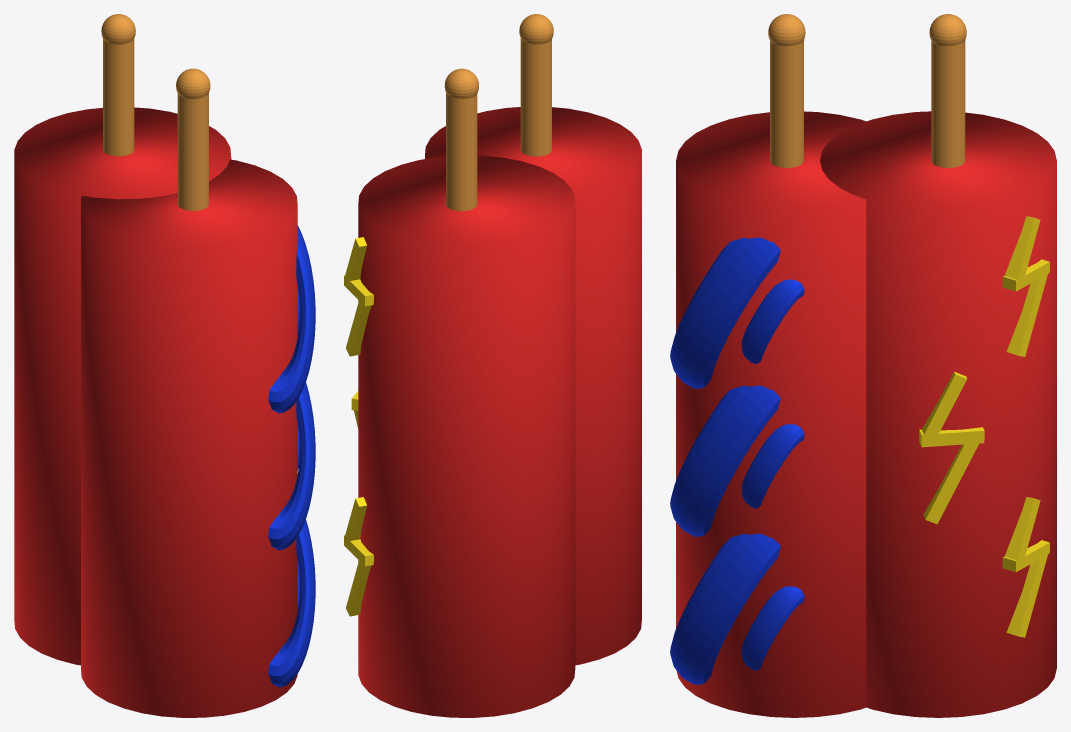
The model's file is battery.fbx.
The picture shows the model from 3 angles, left to right: view 1: azimuth 30°, elevation 25°; view 2: azimuth 150°, elevation 25°; view 3: azimuth 270°, elevation 25°; orthographic projection. The views are drawn at different scales.
Visible parts, largest first — view 1: Cylinder, Cylinder.001, Cylinder.003, Cylinder.002, Torus, Torus.002, Torus.001, Sphere, Sphere.001; view 2: Cylinder.001, Cylinder, Cylinder.002, Cylinder.003, Sphere.001, Sphere, Cube.005, Cube.008, Cube.003, Cube.002; view 3: Cylinder.001, Cylinder, Torus.002, Torus.001, Torus, Cylinder.002, Cylinder.003, Torus.003, Torus.004, Torus.005, Cube.006, Cube.005 (+9 smaller).
Part boxes in pixels (x1,y1,x2,y2): Cylinder: (81, 159, 297, 717); Cylinder.001: (14, 107, 231, 665); Cylinder.003: (177, 93, 208, 210); Cylinder.002: (103, 39, 134, 156); Torus: (268, 225, 315, 413); Torus.002: (268, 519, 315, 687); Torus.001: (268, 382, 315, 550); Sphere: (101, 14, 135, 44); Sphere.001: (176, 68, 210, 98); Cylinder.001: (358, 155, 575, 717); Cylinder: (425, 107, 641, 665); Cylinder.002: (446, 93, 477, 211); Cylinder.003: (520, 38, 551, 156); Sphere.001: (519, 14, 553, 44); Sphere: (444, 68, 478, 98); Cube.005: (346, 553, 371, 616); Cube.008: (346, 301, 371, 356); Cube.003: (345, 497, 366, 540); Cube.002: (345, 237, 366, 280); Cylinder.001: (820, 111, 1056, 717); Cylinder: (676, 111, 866, 717); Torus.002: (670, 533, 780, 684); Torus.001: (670, 385, 780, 536); Torus: (670, 237, 780, 388); Cylinder.002: (931, 40, 965, 167); Cylinder.003: (770, 41, 803, 167); Torus.003: (741, 279, 804, 363); Torus.004: (741, 424, 804, 508); Torus.005: (741, 586, 804, 670); Cube.006: (923, 438, 979, 524); Cube.005: (1006, 547, 1049, 637).
Size of the model in its own units: 87.76 by 257 by 138.
